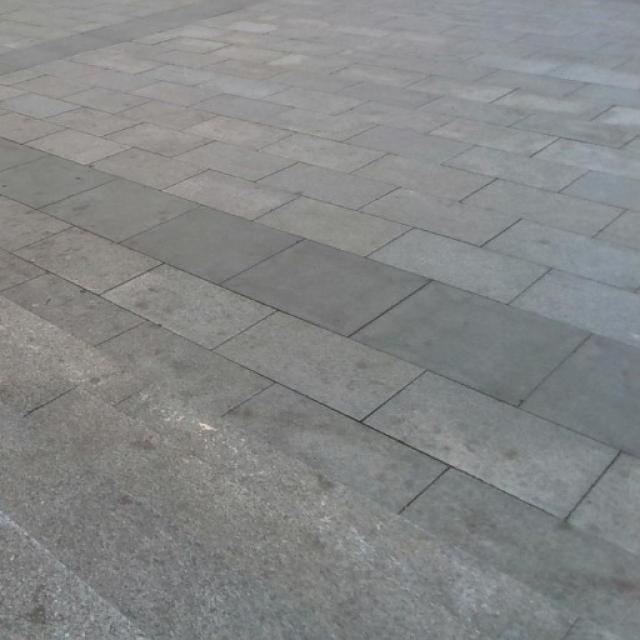stair: (8, 308, 382, 631)
